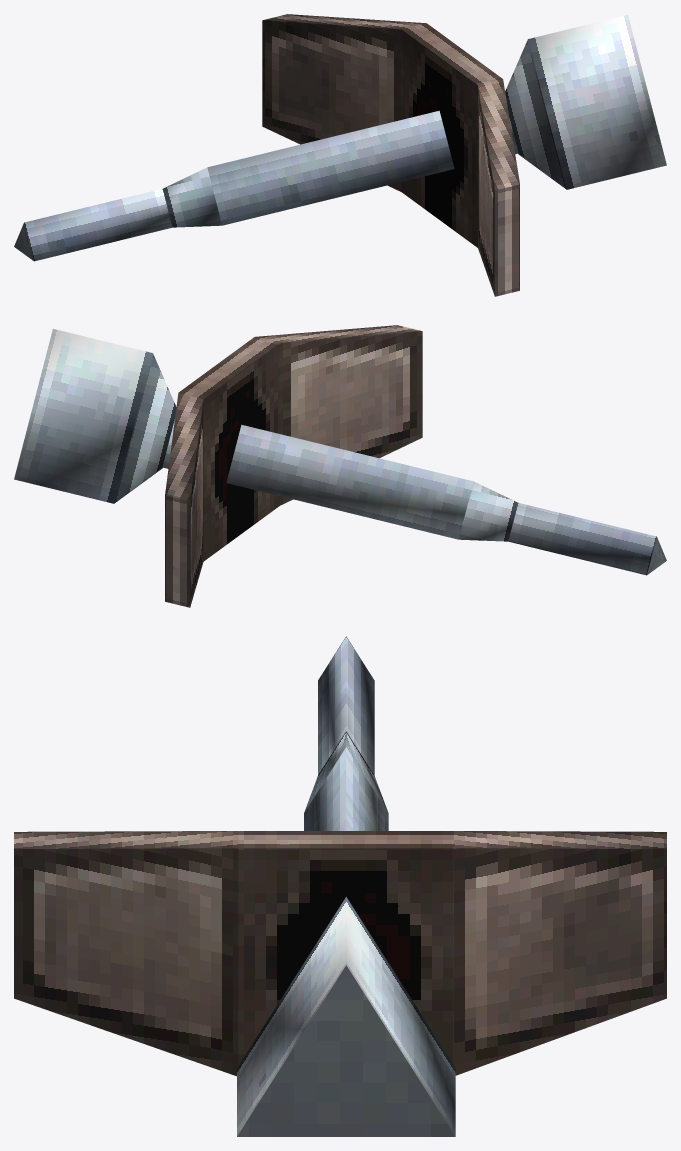
3 renders of one model, top to bottom at view 1: azimuth 30°, elevation 25°; view 2: azimuth 150°, elevation 25°; view 3: azimuth 270°, elevation 25°, orthographic. The views are drawn at different scales.
Visible parts, largest first — view 1: polySurface7; view 2: polySurface7; view 3: polySurface7.
Part boxes in pixels (<box>): polySurface7: <box>14,14,666,296</box>; polySurface7: <box>14,325,666,607</box>; polySurface7: <box>14,636,666,1136</box>.
Size of the model in its own units: 9.6 by 2.47 by 6.4.
1 material, 1 textured.
